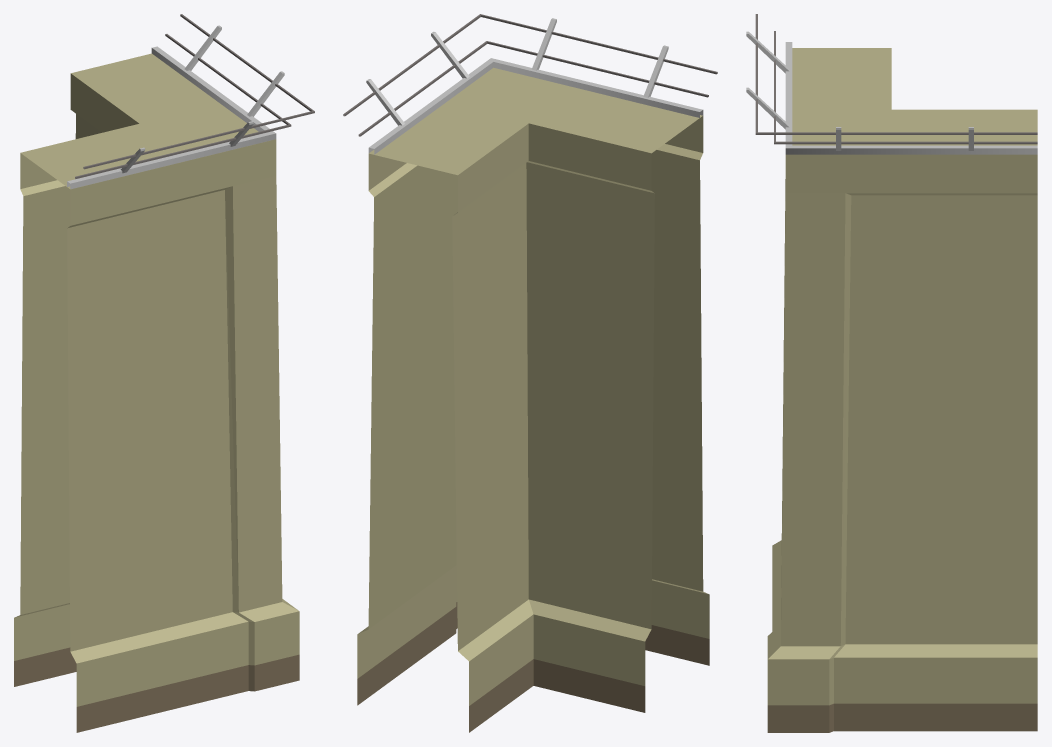
Rendered from SM_Wall_Big_Corner_A_200.FBX.
3 views of the same model, side by side, from view 1: azimuth 30°, elevation 25°; view 2: azimuth 150°, elevation 25°; view 3: azimuth 270°, elevation 25° (orthographic). The views are drawn at different scales.
Parts seen in each view (by area): view 1: SM_Wall_Big_Corner_A_200; view 2: SM_Wall_Big_Corner_A_200; view 3: SM_Wall_Big_Corner_A_200.
Boxes of the visible parts, x1=… form: SM_Wall_Big_Corner_A_200: x1=14, y1=14, x2=314, y2=732; SM_Wall_Big_Corner_A_200: x1=343, y1=14, x2=717, y2=732; SM_Wall_Big_Corner_A_200: x1=746, y1=14, x2=1037, y2=732.
Size of the model in its own units: 439 by 439 by 1022.
